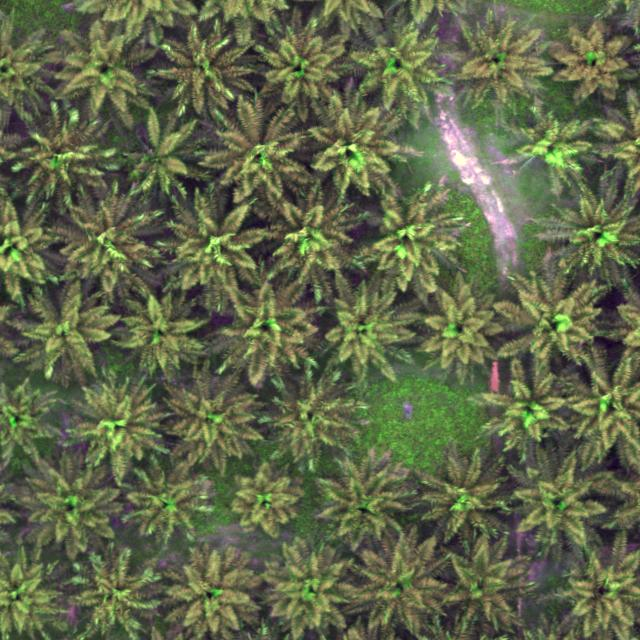oilpalm: (492, 275, 610, 369), (53, 188, 158, 285), (15, 279, 112, 383), (253, 374, 361, 467), (319, 276, 413, 381), (0, 104, 104, 198), (360, 191, 459, 289), (440, 539, 536, 640), (505, 449, 600, 551), (350, 542, 448, 640), (313, 449, 410, 547), (163, 198, 257, 299), (215, 281, 309, 382), (262, 188, 353, 292), (67, 379, 162, 477), (209, 101, 303, 200), (257, 540, 348, 640), (114, 291, 211, 384), (164, 544, 257, 640), (414, 449, 503, 545), (306, 101, 396, 194), (544, 190, 640, 277), (20, 474, 120, 556), (168, 382, 260, 468), (448, 17, 537, 105), (487, 366, 575, 455), (159, 23, 242, 116), (72, 552, 155, 640), (57, 23, 141, 109), (562, 550, 640, 640), (417, 279, 492, 372), (256, 30, 346, 107), (550, 17, 631, 101), (361, 28, 439, 110), (115, 113, 189, 198), (126, 468, 208, 541), (513, 104, 580, 190), (579, 373, 640, 459), (234, 467, 296, 535)
